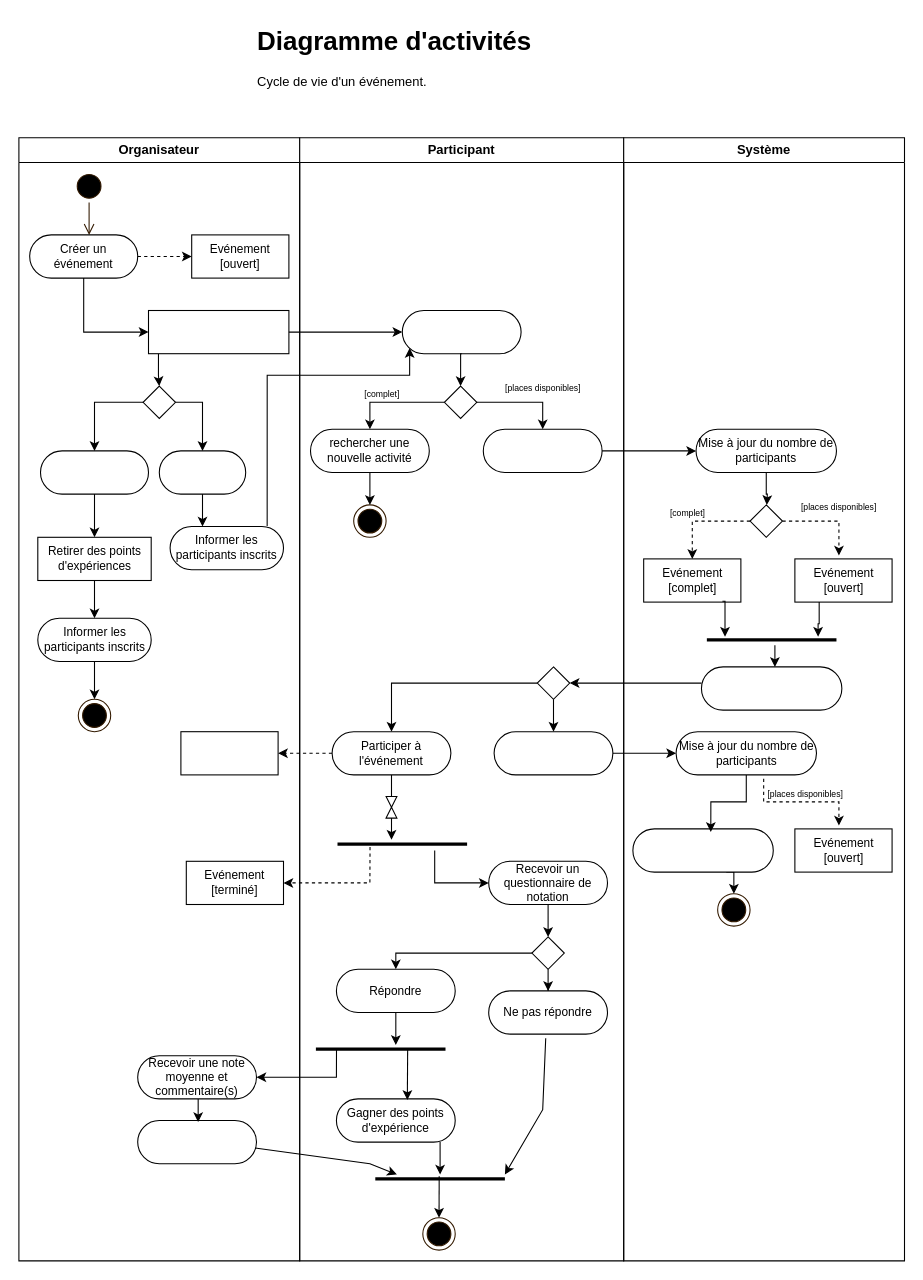
Some shapes in this 923 by 1280 pixel diagram are drawn without their labels. Each missing label, with the centre of its shape:
Annuler sa participation: the point at 553,753
Attribuer des points d'expériences: the point at 771,688
Consulter la fiche de l'événement: the point at 461,331
Evénement [en cours]: the point at 229,753
Gagner des points d'expériences: the point at 218,331
Gagner points d'expérience: the point at 196,1141
Modifier l'événement: the point at 202,472
Retraits des points d'expériences: the point at 702,850
S'inscrire à l'événement: the point at 542,450
Supprimer l'événement: the point at 93,472
